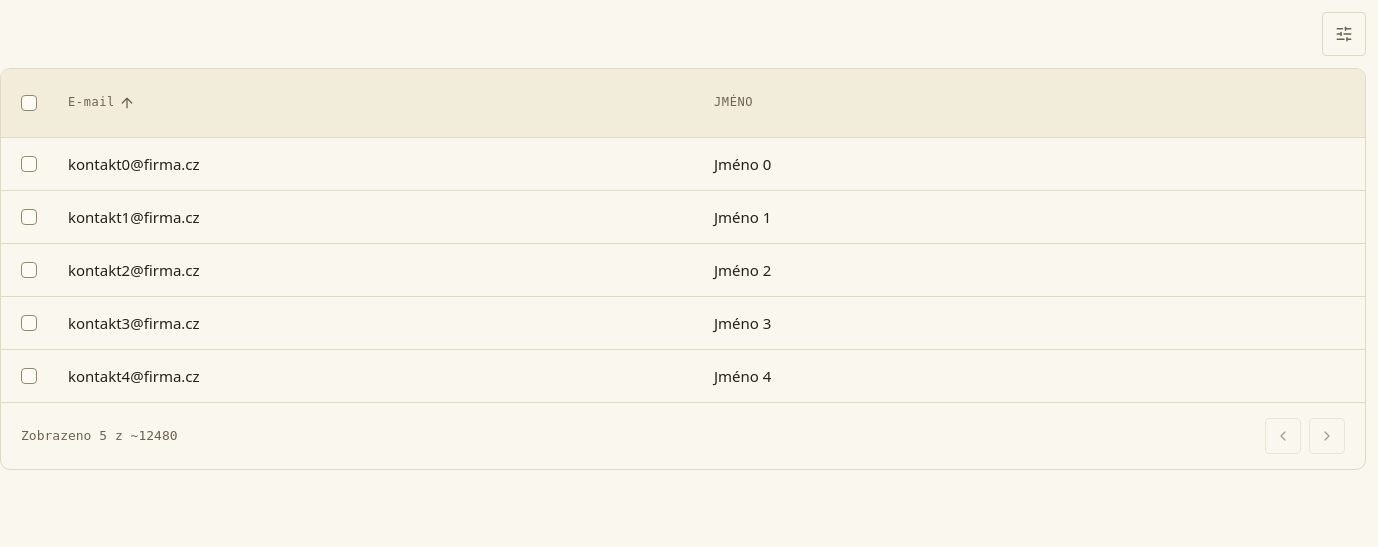
Test: DataTable › nestránkovaná tabulka výběr všeho vůbec nenabízí
This screenshot has width=1378, height=547.
Click the checkbox named "Označit všechny řádky na stránce": [29, 103] box [21,95,37,111]
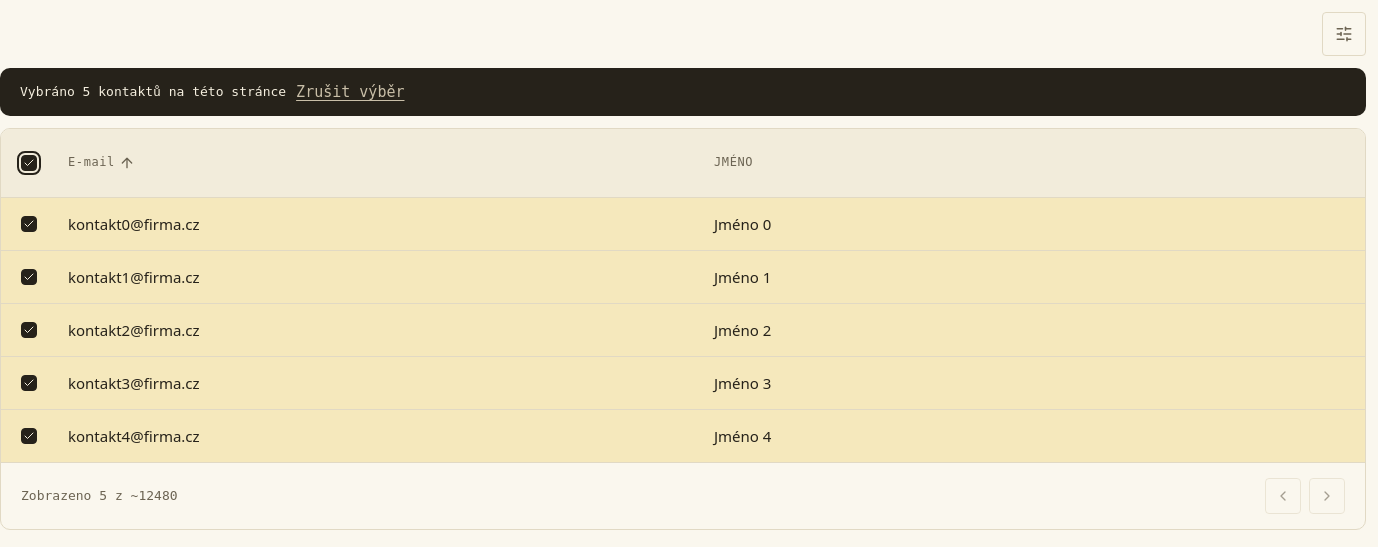
Now the text "Vybráno 5 kontaktů na této stránce" is shown, box [20,82,286,102]
